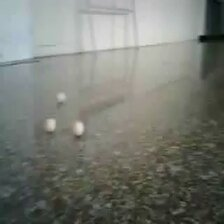w: (71, 121, 84, 136), (44, 117, 56, 133), (57, 92, 66, 104)
